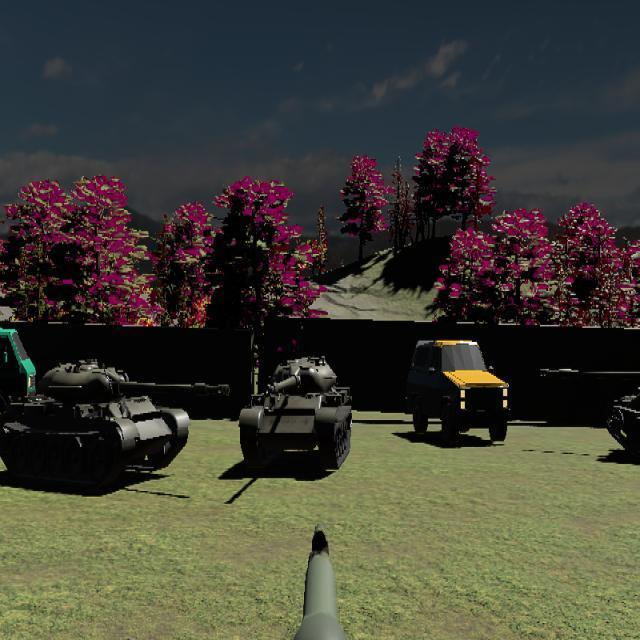Tank: (0, 356, 231, 491), (238, 352, 352, 471), (537, 354, 640, 469)
car: (404, 338, 511, 443), (0, 324, 36, 420)
